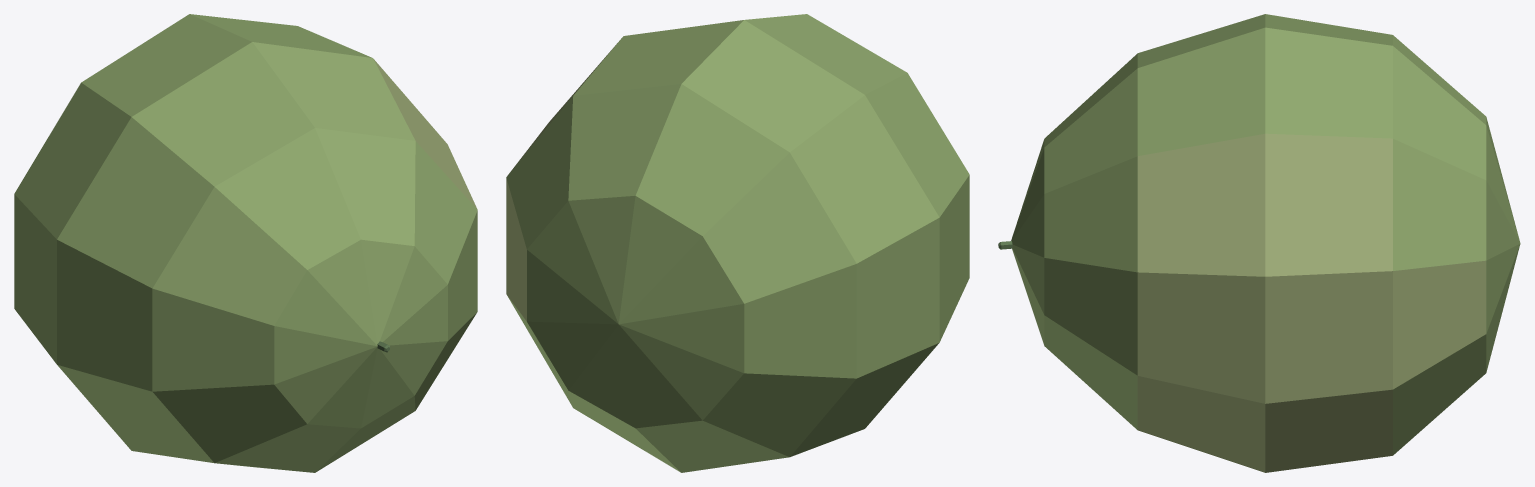
Rendered from pomelo.glb.
3 renders of one model, left to right at view 1: azimuth 30°, elevation 25°; view 2: azimuth 150°, elevation 25°; view 3: azimuth 270°, elevation 25°, orthographic.
Parts seen in each view (by area): view 1: pomelo; view 2: pomelo; view 3: pomelo.
Part boxes in pixels (x1,y1,x2,y2): pomelo: [14, 14, 477, 472]; pomelo: [506, 14, 969, 472]; pomelo: [998, 14, 1520, 472].
Size of the model in its own units: 0.1617 by 0.1681 by 0.1841.
